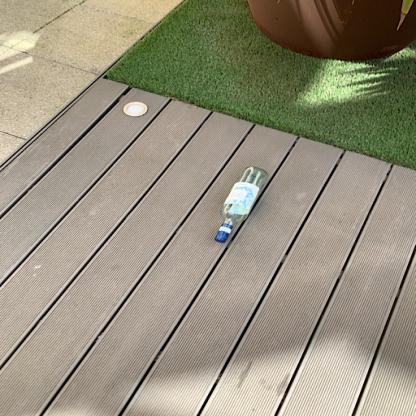trash: (211, 165, 272, 246)
